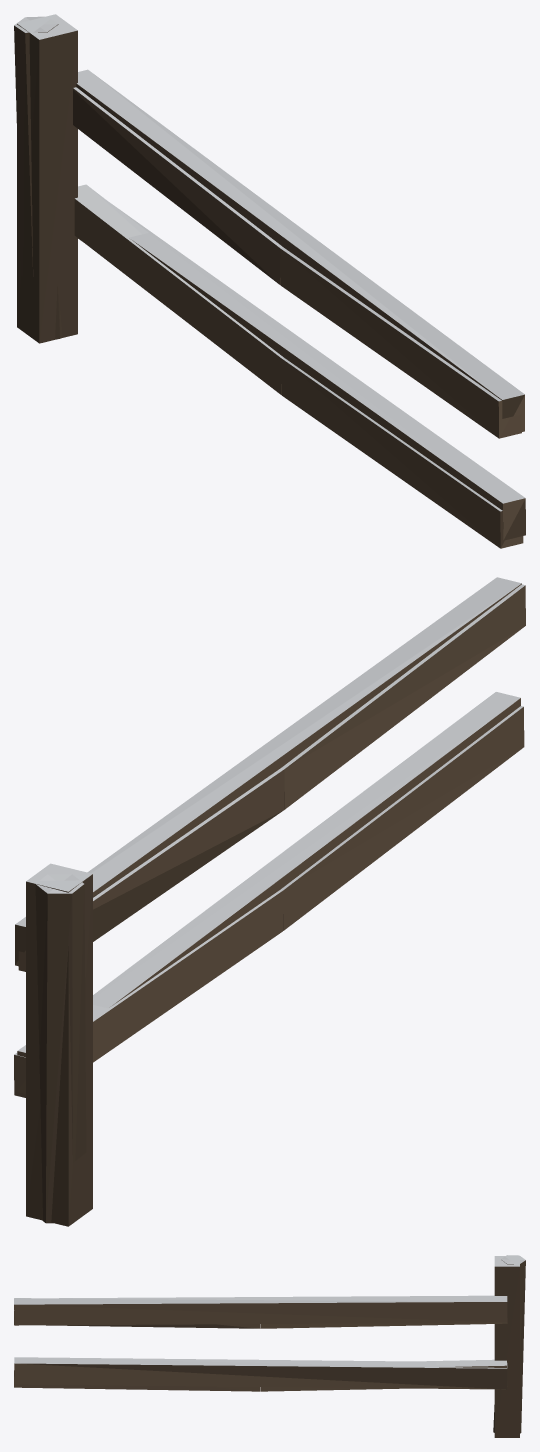
The model's file is fence-snow.glb.
3 views of the same model, one above another, from view 1: azimuth 30°, elevation 25°; view 2: azimuth 150°, elevation 25°; view 3: azimuth 270°, elevation 25° (orthographic). The views are drawn at different scales.
Visible parts, largest first — view 1: lod1_post, lod1_rail1, lod1_rail0, lod0_rail0a, lod0_rail1b, lod0_rail0b, lod0_rail1a, lod0_post; view 2: lod1_rail0, lod1_rail1, lod1_post, lod0_post, lod0_rail1b, lod0_rail0b, lod0_rail1a, lod0_rail0a; view 3: lod1_rail1, lod1_rail0, lod1_post, lod0_rail0b, lod0_rail0a, lod0_rail1a, lod0_post, lod0_rail1b.
Part boxes in pixels (bbox=[...]): lod1_post: bbox=[17, 14, 77, 343]; lod1_rail1: bbox=[76, 69, 524, 431]; lod1_rail0: bbox=[77, 203, 525, 540]; lod0_rail0a: bbox=[74, 184, 283, 395]; lod0_rail1b: bbox=[280, 247, 521, 438]; lod0_rail0b: bbox=[282, 358, 523, 548]; lod0_rail1a: bbox=[73, 87, 283, 284]; lod0_post: bbox=[14, 16, 62, 339]; lod1_rail0: bbox=[14, 692, 520, 1097]; lod1_rail1: bbox=[15, 577, 521, 966]; lod1_post: bbox=[26, 863, 92, 1226]; lod0_post: bbox=[35, 874, 86, 1223]; lod0_rail1b: bbox=[281, 584, 525, 809]; lod0_rail0b: bbox=[280, 706, 524, 930]; lod0_rail1a: bbox=[18, 768, 284, 971]; lod0_rail0a: bbox=[17, 890, 283, 1093]; lod1_rail1: bbox=[14, 1295, 507, 1325]; lod1_rail0: bbox=[14, 1357, 507, 1389]; lod1_post: bbox=[494, 1256, 519, 1437]; lod0_rail0b: bbox=[14, 1384, 260, 1391]; lod0_rail0a: bbox=[261, 1359, 507, 1391]; lod0_rail1a: bbox=[261, 1318, 507, 1328]; lod0_post: bbox=[493, 1255, 525, 1433]; lod0_rail1b: bbox=[14, 1298, 260, 1328].
Bounding box in the file's own units: 0.2525 × 1.15 × 3.12.
